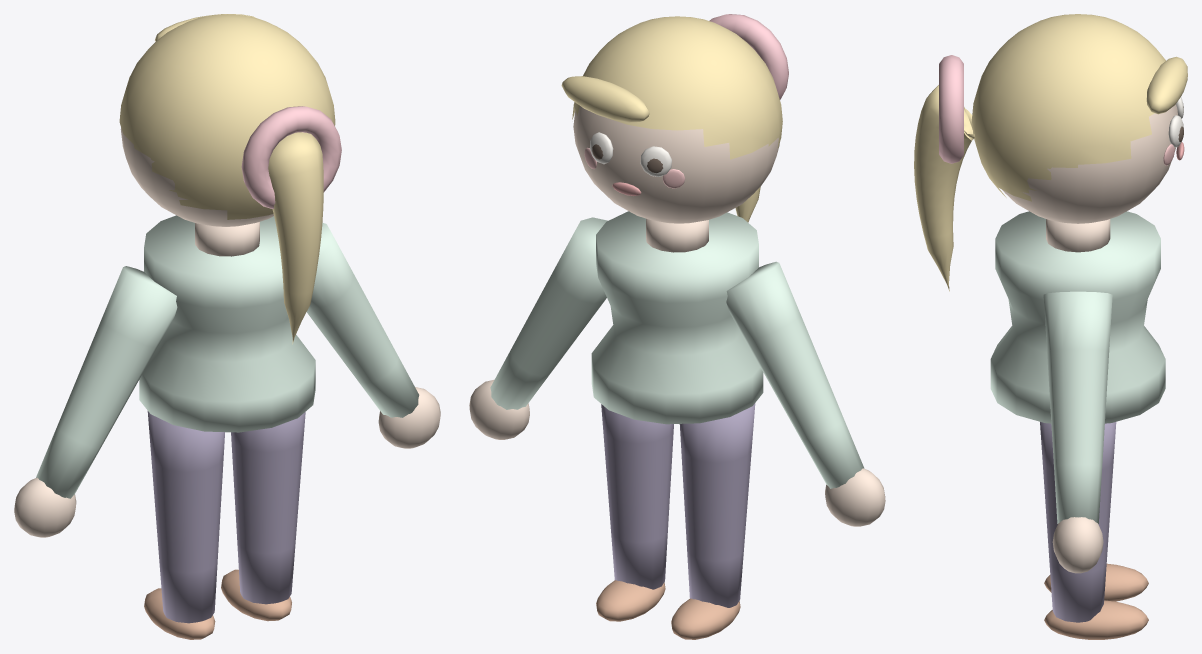
File: Character_01.glb
The picture shows the model from 3 angles, left to right: view 1: azimuth 30°, elevation 25°; view 2: azimuth 150°, elevation 25°; view 3: azimuth 270°, elevation 25°; orthographic projection. The views are drawn at different scales.
Visible parts, largest first — view 1: Char_Torso, Char_HairCap, Char_Arm_R, Char_Leg_R, Char_Leg_L, Char_Arm_L, Char_Ponytail, Char_HairScrunchie, Char_Head, Char_Hand_R, Char_Hand_L, Char_Neck (+2 smaller); view 2: Char_Torso, Char_HairCap, Char_Head, Char_Arm_R, Char_Leg_R, Char_Leg_L, Char_Arm_L, Char_HairBangs, Char_Hand_R, Char_HairScrunchie, Char_Hand_L, Char_Foot_L (+3 smaller); view 3: Char_HairCap, Char_Torso, Char_Arm_L, Char_Head, Char_Leg_L, Char_Ponytail, Char_HairScrunchie, Char_Foot_L, Char_Hand_L, Char_Neck, Char_HairBangs, Char_Foot_R.
Boxes of the visible parts, box(x1,y1,x2,y2) form: Char_Torso: box(139, 215, 315, 432); Char_HairCap: box(119, 14, 335, 219); Char_Arm_R: box(36, 266, 177, 498); Char_Leg_R: box(147, 411, 224, 623); Char_Leg_L: box(231, 412, 305, 604); Char_Arm_L: box(306, 222, 419, 417); Char_Ponytail: box(268, 132, 323, 344); Char_HairScrunchie: box(241, 106, 341, 208); Char_Head: box(120, 127, 273, 226); Char_Hand_R: box(14, 477, 76, 537); Char_Hand_L: box(378, 387, 440, 448); Char_Neck: box(195, 222, 259, 256); Char_Torso: box(591, 211, 763, 424); Char_HairCap: box(572, 16, 782, 159); Char_Head: box(573, 106, 779, 223); Char_Arm_R: box(726, 261, 864, 488); Char_Leg_R: box(679, 403, 755, 607); Char_Leg_L: box(601, 404, 673, 589); Char_Arm_L: box(490, 217, 607, 409); Char_HairBangs: box(561, 76, 649, 122); Char_Hand_R: box(825, 468, 885, 526); Char_HairScrunchie: box(709, 14, 788, 99); Char_Hand_L: box(469, 379, 529, 439); Char_Foot_L: box(596, 580, 665, 621); Char_HairCap: box(972, 14, 1165, 201); Char_Torso: box(990, 211, 1165, 423); Char_Arm_L: box(1043, 291, 1112, 523); Char_Head: box(1002, 104, 1177, 223); Char_Leg_L: box(1040, 422, 1116, 622); Char_Ponytail: box(914, 85, 974, 291); Char_HairScrunchie: box(939, 55, 963, 163); Char_Foot_L: box(1044, 600, 1148, 639); Char_Hand_L: box(1052, 517, 1103, 573); Char_Neck: box(1046, 219, 1110, 252); Char_HairBangs: box(1146, 56, 1187, 114); Char_Foot_R: box(1044, 563, 1148, 601).
Bounding box in the file's own units: 1.04 × 1.43 × 0.5951.
